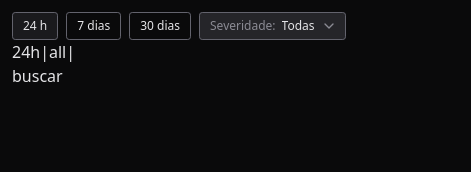
Test case: FilterBar › voltar para "Todas" remove o filtro de severidade
What coordinates should you click on to do the following:
click the dropdown labelled "Severidade"
I would click on:
 (272, 26)
Its box is [199,12,346,40].
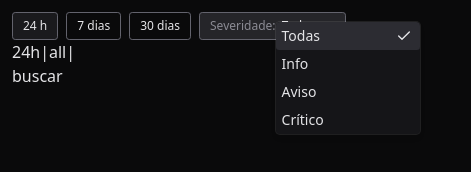
What coordinates should you click on to do the following:
click the option "Aviso"
I would click on:
 (299, 92)
Its box is [282,82,316,101].
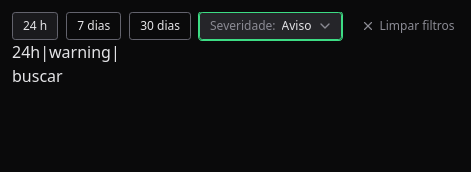
What coordinates should you click on to do the following:
click the dropdown labelled "Severidade"
I would click on:
 (271, 26)
Its box is [199,12,342,40].
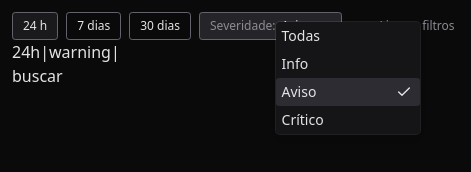
What coordinates should you click on to do the following:
click the option "Todas"
I would click on:
 (301, 36)
Its box is [282,26,320,45].
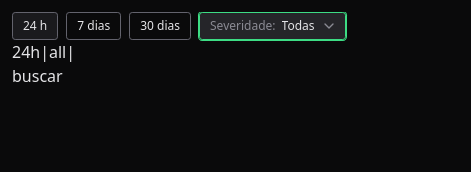
Expected: the text with test id "filters" reads "24h|all|", [12,41,75,63]
